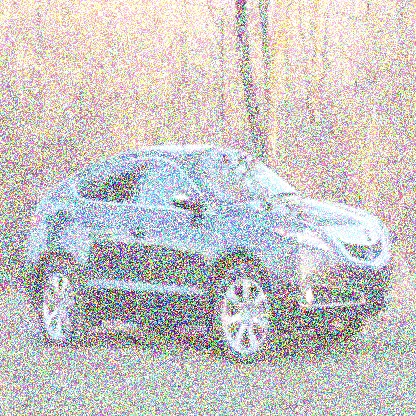Vehicle: (22, 148, 395, 366)
